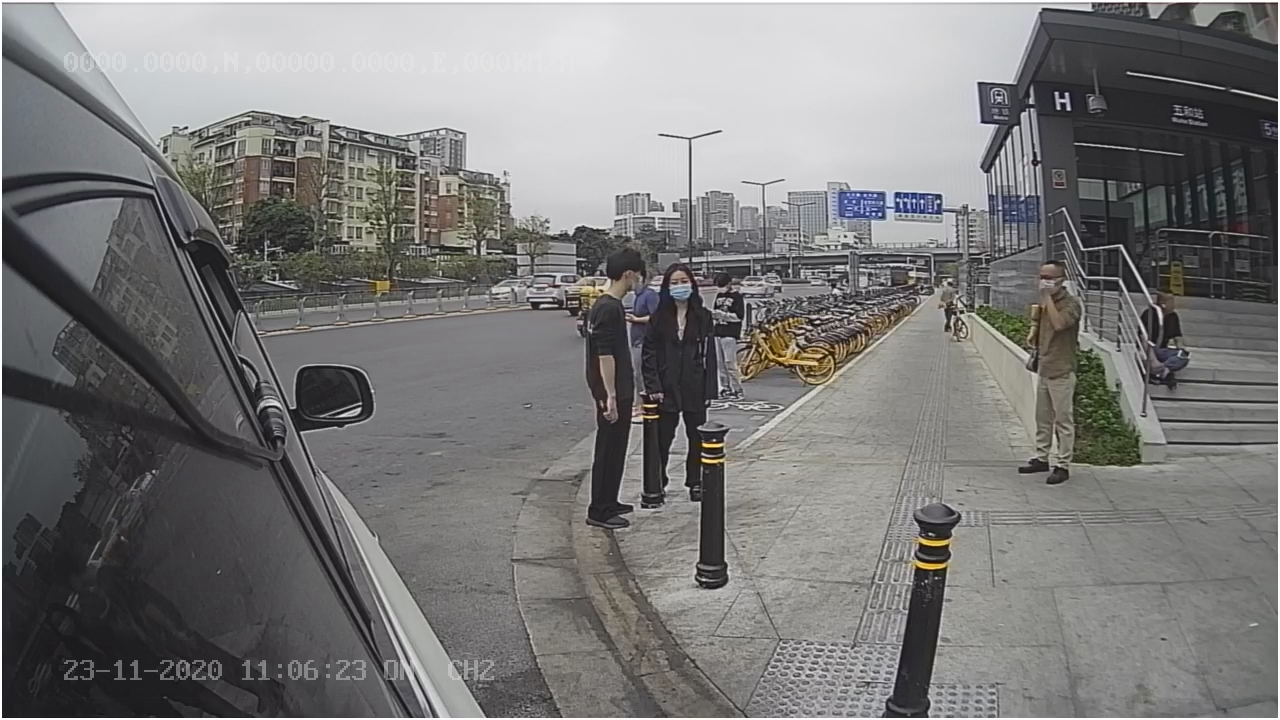person: (1008, 251, 1089, 488)
